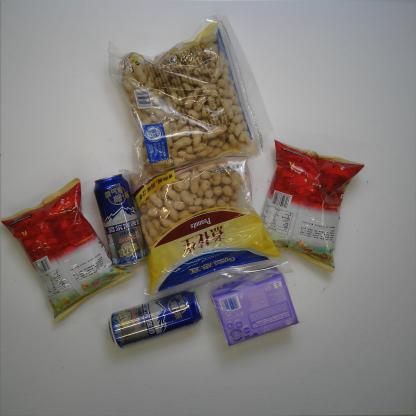Alcohol: (108, 290, 204, 349), (93, 173, 149, 268)
Dried Food: (107, 13, 277, 182), (117, 152, 293, 303)
Puffed Food: (0, 177, 134, 325), (259, 138, 366, 272)
Tissue: (211, 267, 299, 348)
